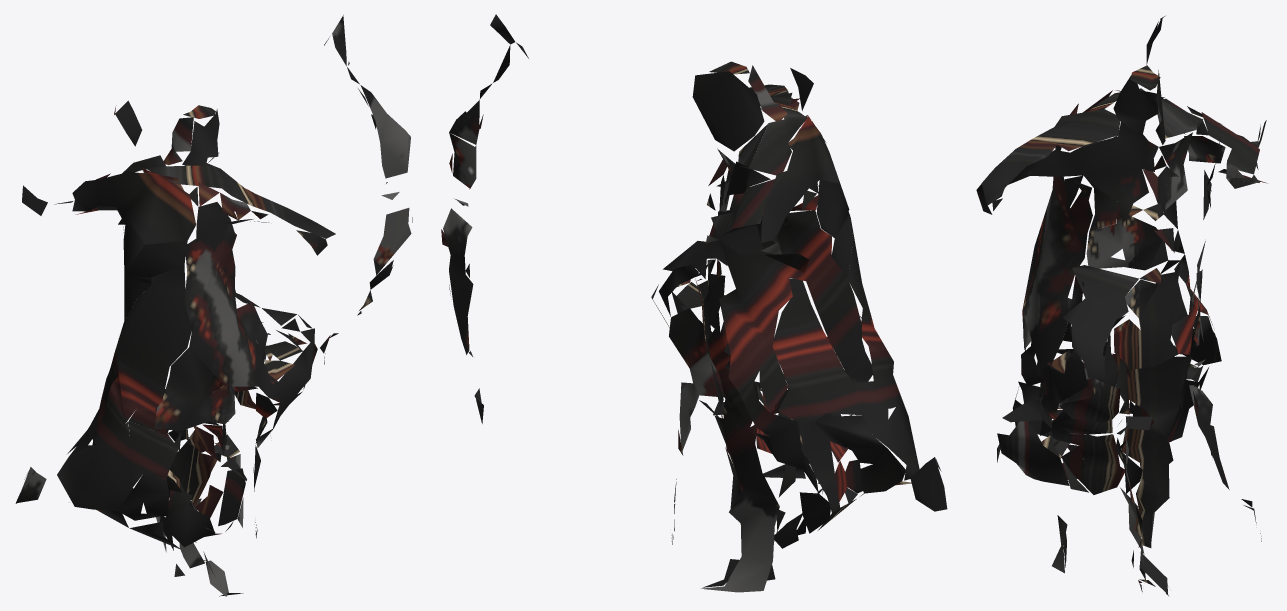
3 renders of one model, left to right at view 1: azimuth 30°, elevation 25°; view 2: azimuth 150°, elevation 25°; view 3: azimuth 270°, elevation 25°, orthographic. The views are drawn at different scales.
Parts seen in each view (by area): view 1: body.002; view 2: body.002; view 3: body.002.
Boxes of the visible parts, bbox=[...] form: body.002: bbox=[15, 15, 412, 596]; body.002: bbox=[441, 14, 947, 592]; body.002: bbox=[976, 16, 1267, 595].
Bounding box in the file's own units: 1.8 × 2 × 0.9804.
1 material, 1 textured.
